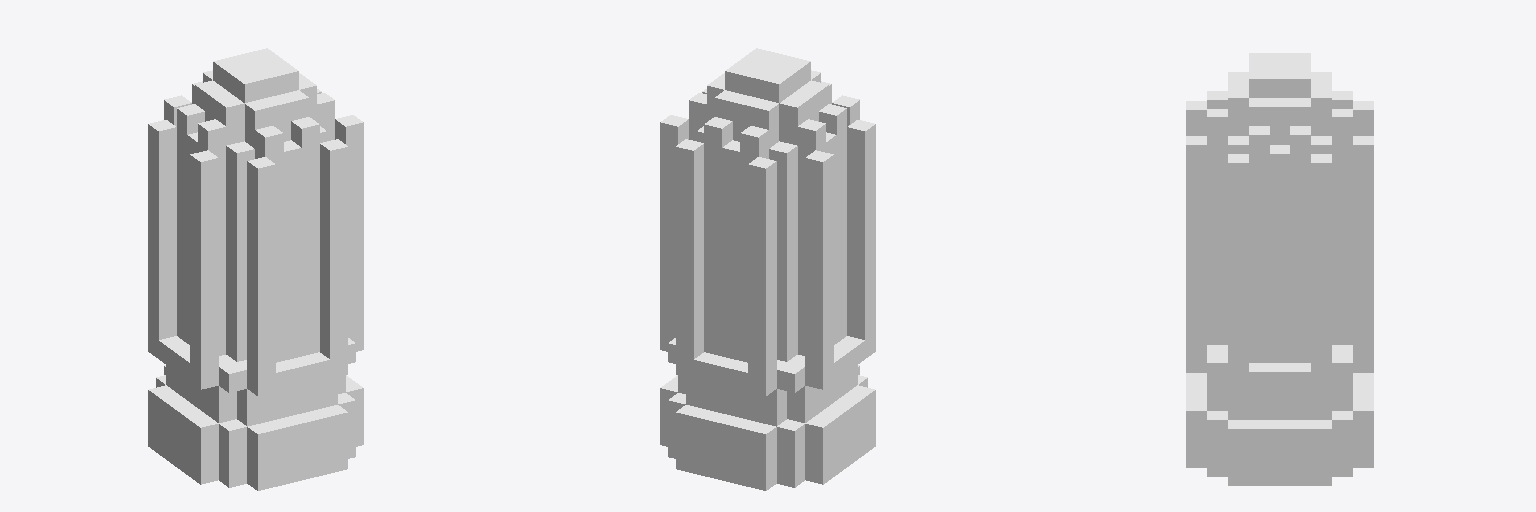
File: Compressor.obj
3 renders of one model, left to right at view 1: azimuth 30°, elevation 25°; view 2: azimuth 150°, elevation 25°; view 3: azimuth 270°, elevation 25°, orthographic.
Visible parts, largest first — view 1: object 1; view 2: object 1; view 3: object 1.
Boxes of the visible parts, box(x1,y1,x2,y2) form: object 1: box(148, 48, 363, 490); object 1: box(660, 48, 875, 490); object 1: box(1186, 53, 1373, 485).
Size of the model in its own units: 0.9 by 2 by 0.9.